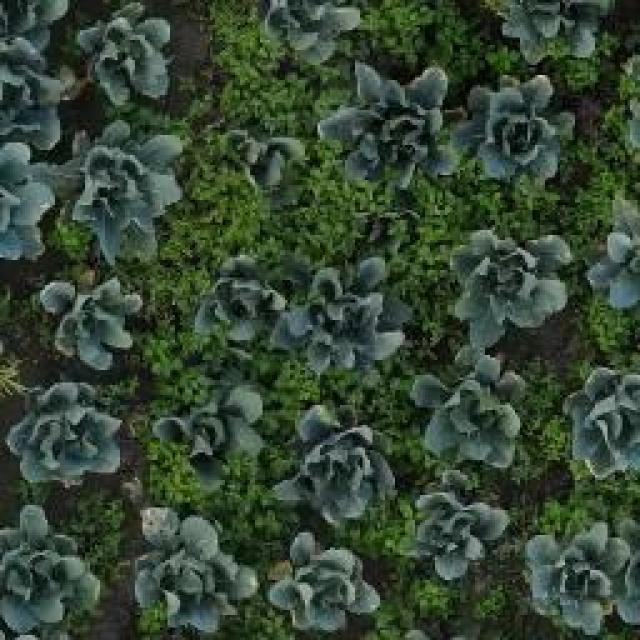cabbage: (56, 128, 176, 260), (320, 66, 444, 181), (447, 218, 567, 334), (133, 512, 252, 626), (9, 382, 130, 490), (75, 2, 185, 120), (412, 350, 522, 468), (0, 509, 103, 628), (465, 76, 572, 187), (284, 413, 390, 519), (525, 523, 639, 618), (303, 267, 400, 375), (36, 272, 138, 374), (153, 387, 257, 480), (275, 537, 372, 630), (565, 358, 640, 478), (413, 488, 508, 577), (192, 264, 285, 342), (256, 0, 351, 63), (224, 122, 309, 192)
